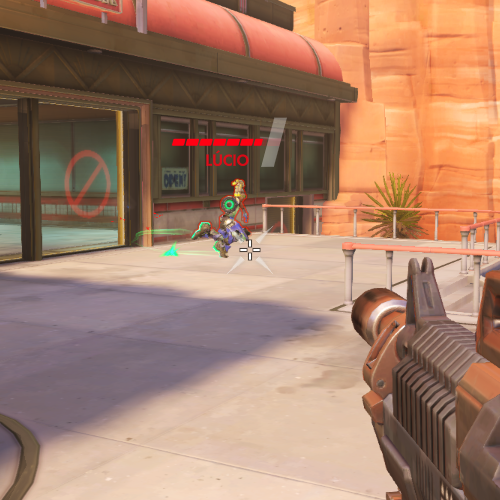hpbar: (171, 138, 282, 147)
